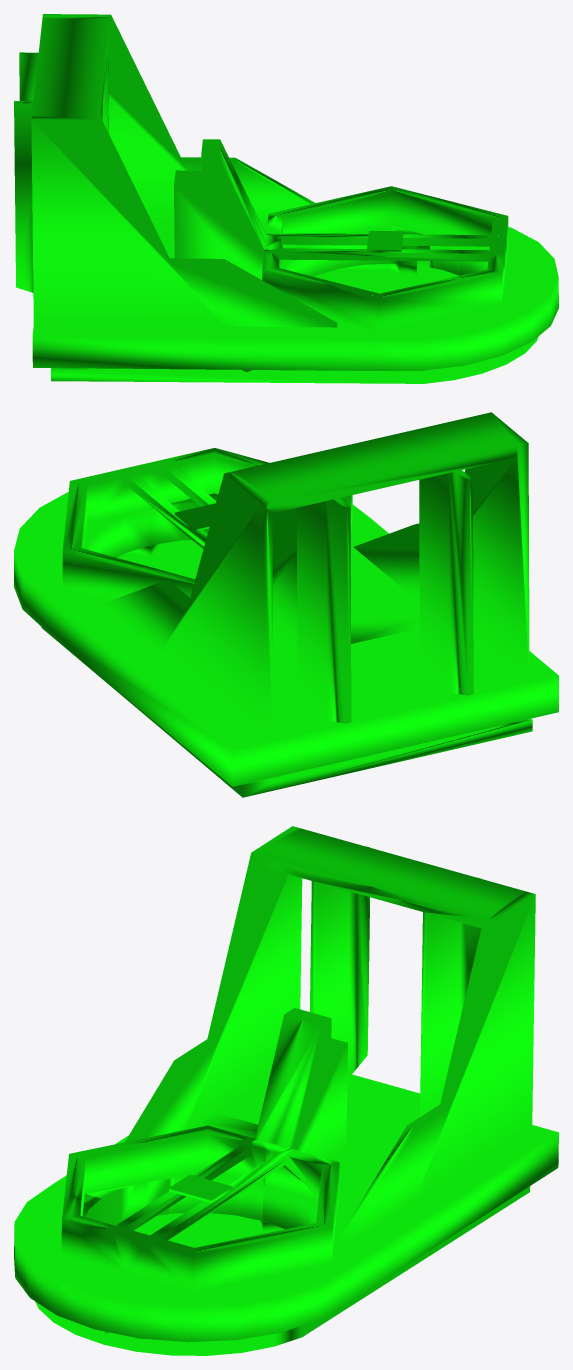
The picture shows the model from 3 angles, top to bottom: view 1: azimuth 30°, elevation 25°; view 2: azimuth 150°, elevation 25°; view 3: azimuth 270°, elevation 25°; orthographic projection. The views are drawn at different scales.
Parts seen in each view (by area): view 1: HC-2; view 2: HC-2; view 3: HC-2.
Boxes of the visible parts, x1,y1,x2,y2 form: HC-2: (14,14,558,383); HC-2: (14,412,558,797); HC-2: (14,826,558,1355).
Size of the model in its own units: 3.41 by 3.01 by 1.78.
